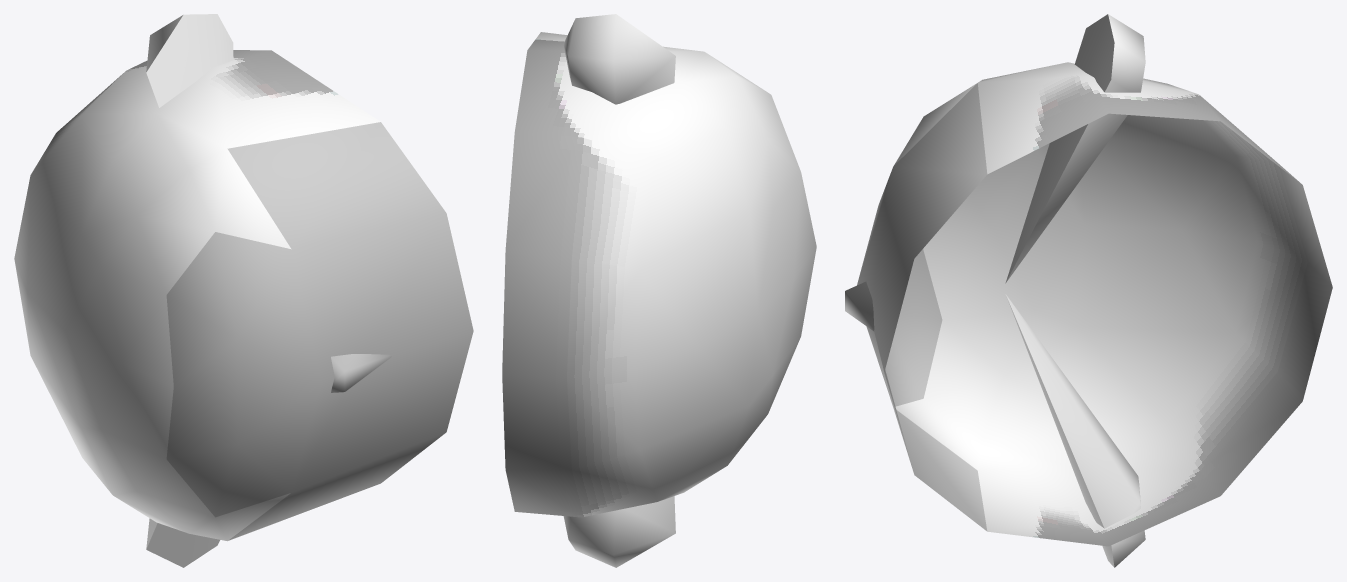
The model's file is boy13b.dae.
3 renders of one model, left to right at view 1: azimuth 30°, elevation 25°; view 2: azimuth 150°, elevation 25°; view 3: azimuth 270°, elevation 25°, orthographic.
Visible parts, largest first — view 1: vsn_mesh_0_, vsn_mesh_1_, vsn_mesh_2_; view 2: vsn_mesh_0_; view 3: vsn_mesh_0_, vsn_mesh_1_, vsn_mesh_2_.
Boxes of the visible parts, left/top/right/bottom form: vsn_mesh_0_: left=14, top=14, right=380, bottom=567; vsn_mesh_1_: left=227, top=122, right=473, bottom=540; vsn_mesh_2_: left=166, top=232, right=321, bottom=517; vsn_mesh_0_: left=502, top=14, right=816, bottom=567; vsn_mesh_0_: left=894, top=14, right=1332, bottom=567; vsn_mesh_1_: left=845, top=83, right=987, bottom=531; vsn_mesh_2_: left=857, top=169, right=942, bottom=406.
Size of the model in its own units: 15.5 by 26.71 by 21.59.
3 materials, 1 textured.
